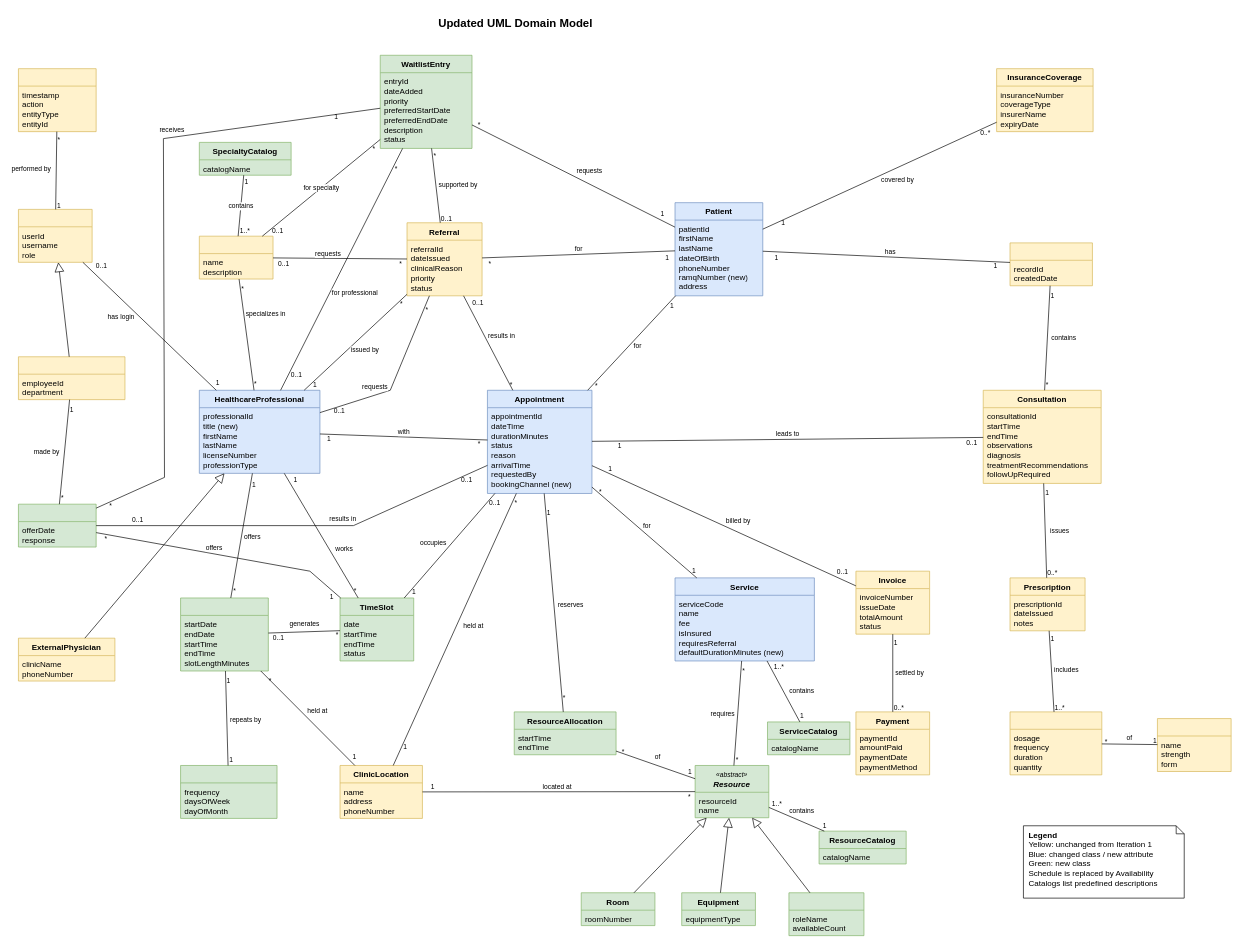
The diagram is 1243 pixels wide and 949 high, and some of its shapes have lost their labels. Each missing label, with the box of its shape:
AdministrativeStaff: (18, 356, 125, 400)
AuditLogEntry: (18, 68, 96, 132)
Availability: (180, 597, 268, 671)
ClinicalRecord: (1009, 242, 1092, 286)
HumanRole: (788, 892, 864, 936)
Medication: (1157, 718, 1231, 772)
PrescriptionItem: (1009, 711, 1102, 775)
RecurrencePattern: (180, 765, 277, 818)
Specialty: (199, 236, 273, 279)
SystemUser: (18, 209, 92, 262)
WaitlistOffer: (18, 504, 96, 547)
